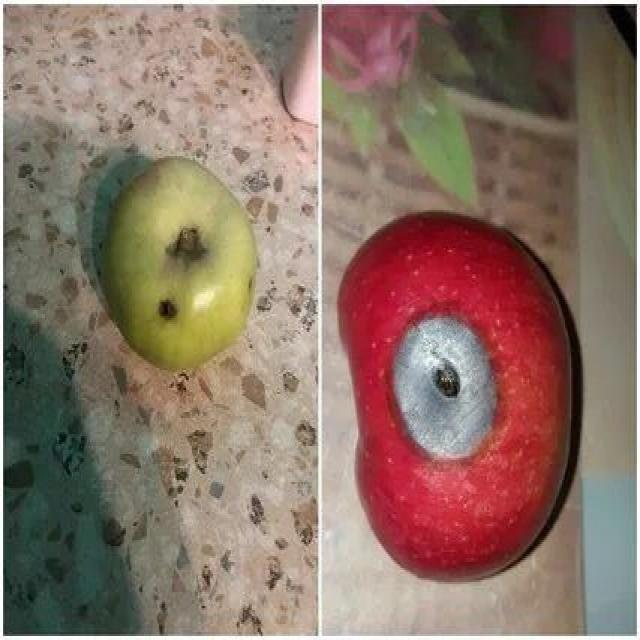Rotten: (333, 228, 587, 592), (119, 165, 258, 365)
